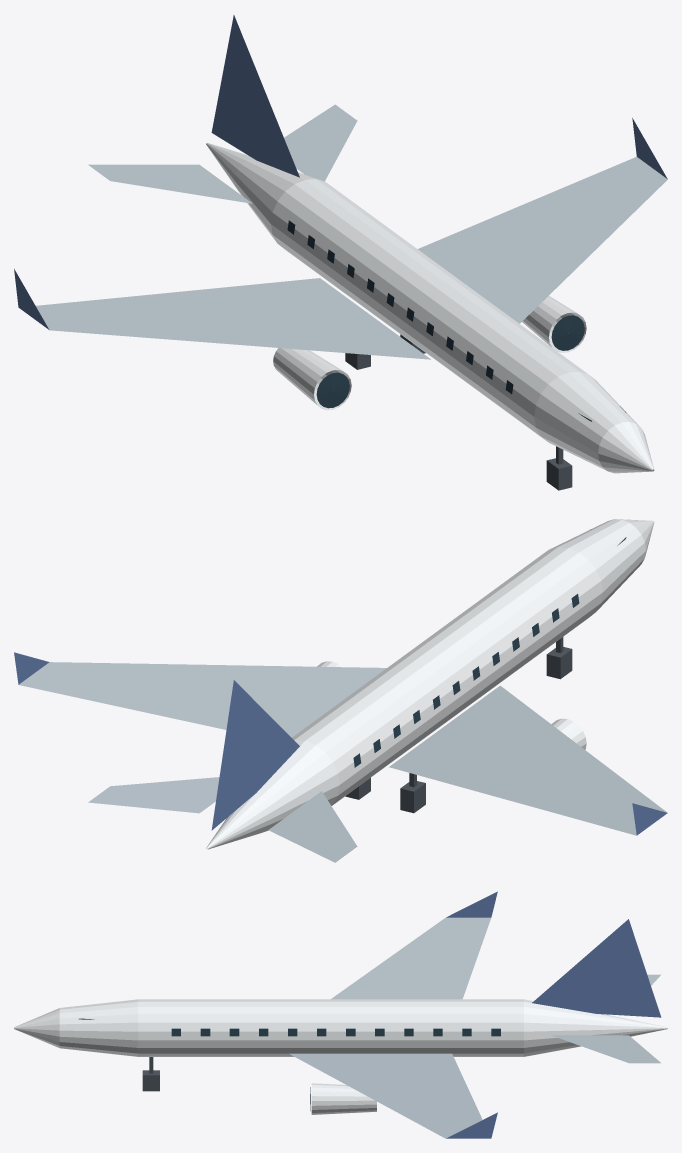
Rendered from a321-BAW.gltf.
3 views of the same model, one above another, from view 1: azimuth 30°, elevation 25°; view 2: azimuth 150°, elevation 25°; view 3: azimuth 270°, elevation 25° (orthographic). The views are drawn at different scales.
Visible parts, largest first — view 1: object 1, Gear; view 2: object 1, Gear; view 3: object 1, Gear.
Part boxes in pixels (x1=…): object 1: x1=14, y1=15, x2=667, y2=473; Gear: x1=345, y1=334, x2=572, y2=490; object 1: x1=14, y1=519, x2=667, y2=862; Gear: x1=345, y1=637, x2=572, y2=813; object 1: x1=14, y1=891, x2=667, y2=1138; Gear: x1=142, y1=1057, x2=159, y2=1091.
Size of the model in its own units: 36 by 12.9 by 45.
